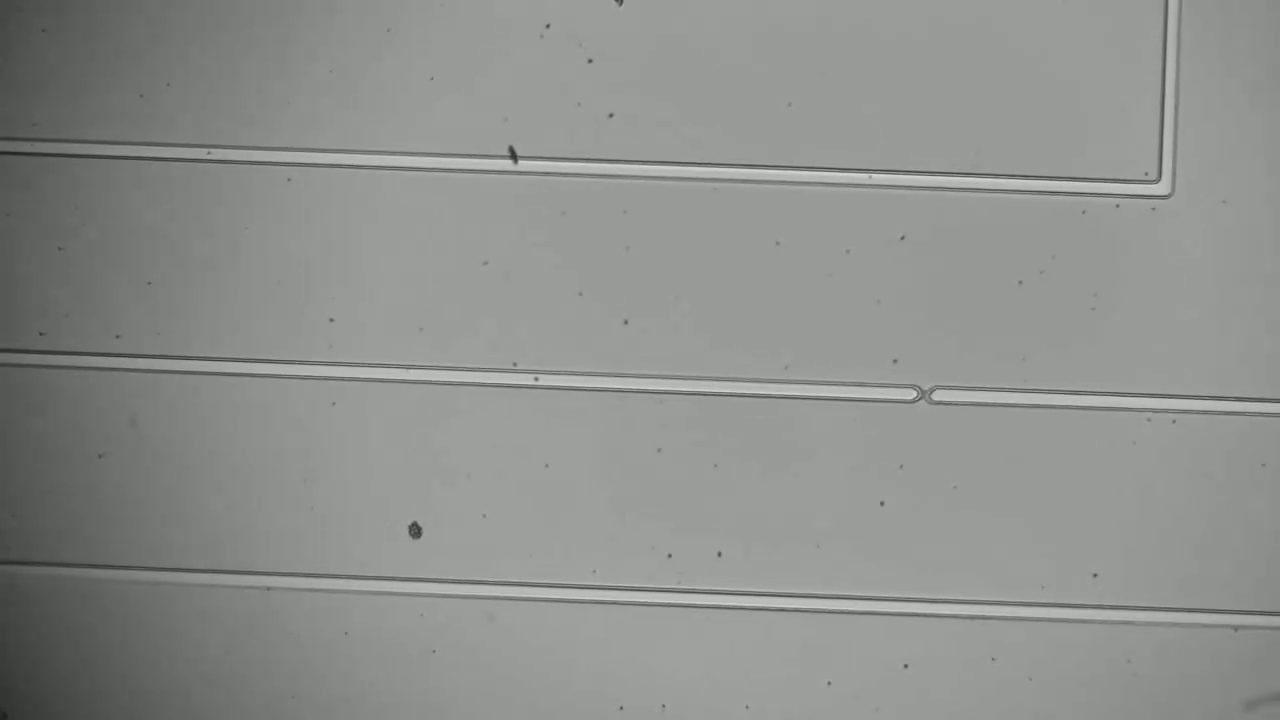open: (900, 375, 955, 420)
stains_enbedded: (490, 131, 536, 186)
